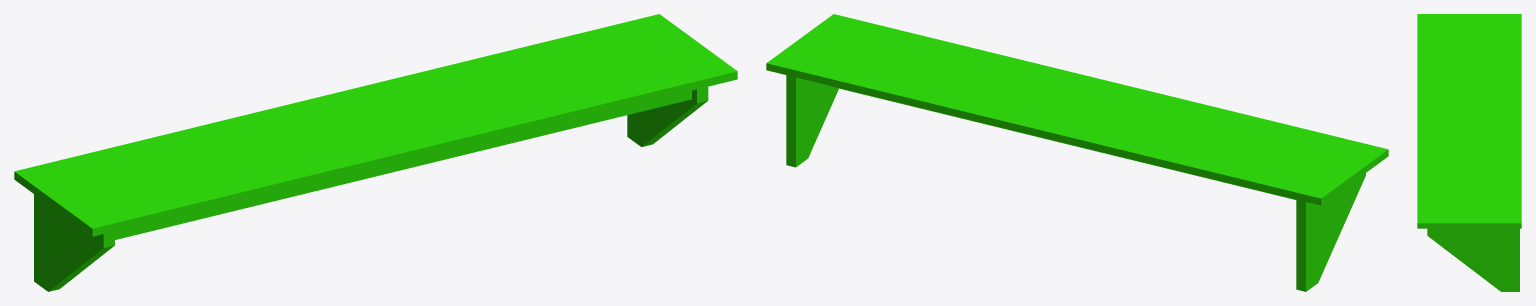
File: Kitchen_Shelf_02_Lod0.fbx
The picture shows the model from 3 angles, left to right: view 1: azimuth 30°, elevation 25°; view 2: azimuth 150°, elevation 25°; view 3: azimuth 270°, elevation 25°; orthographic projection. The views are drawn at different scales.
Parts seen in each view (by area): view 1: Kitchen_Shelf_02_Lod0; view 2: Kitchen_Shelf_02_Lod0; view 3: Kitchen_Shelf_02_Lod0.
Boxes of the visible parts, bbox=[...] form: Kitchen_Shelf_02_Lod0: bbox=[14, 14, 737, 291]; Kitchen_Shelf_02_Lod0: bbox=[766, 14, 1388, 291]; Kitchen_Shelf_02_Lod0: bbox=[1417, 14, 1521, 291].
Size of the model in its own units: 135 by 22.73 by 28.3.
